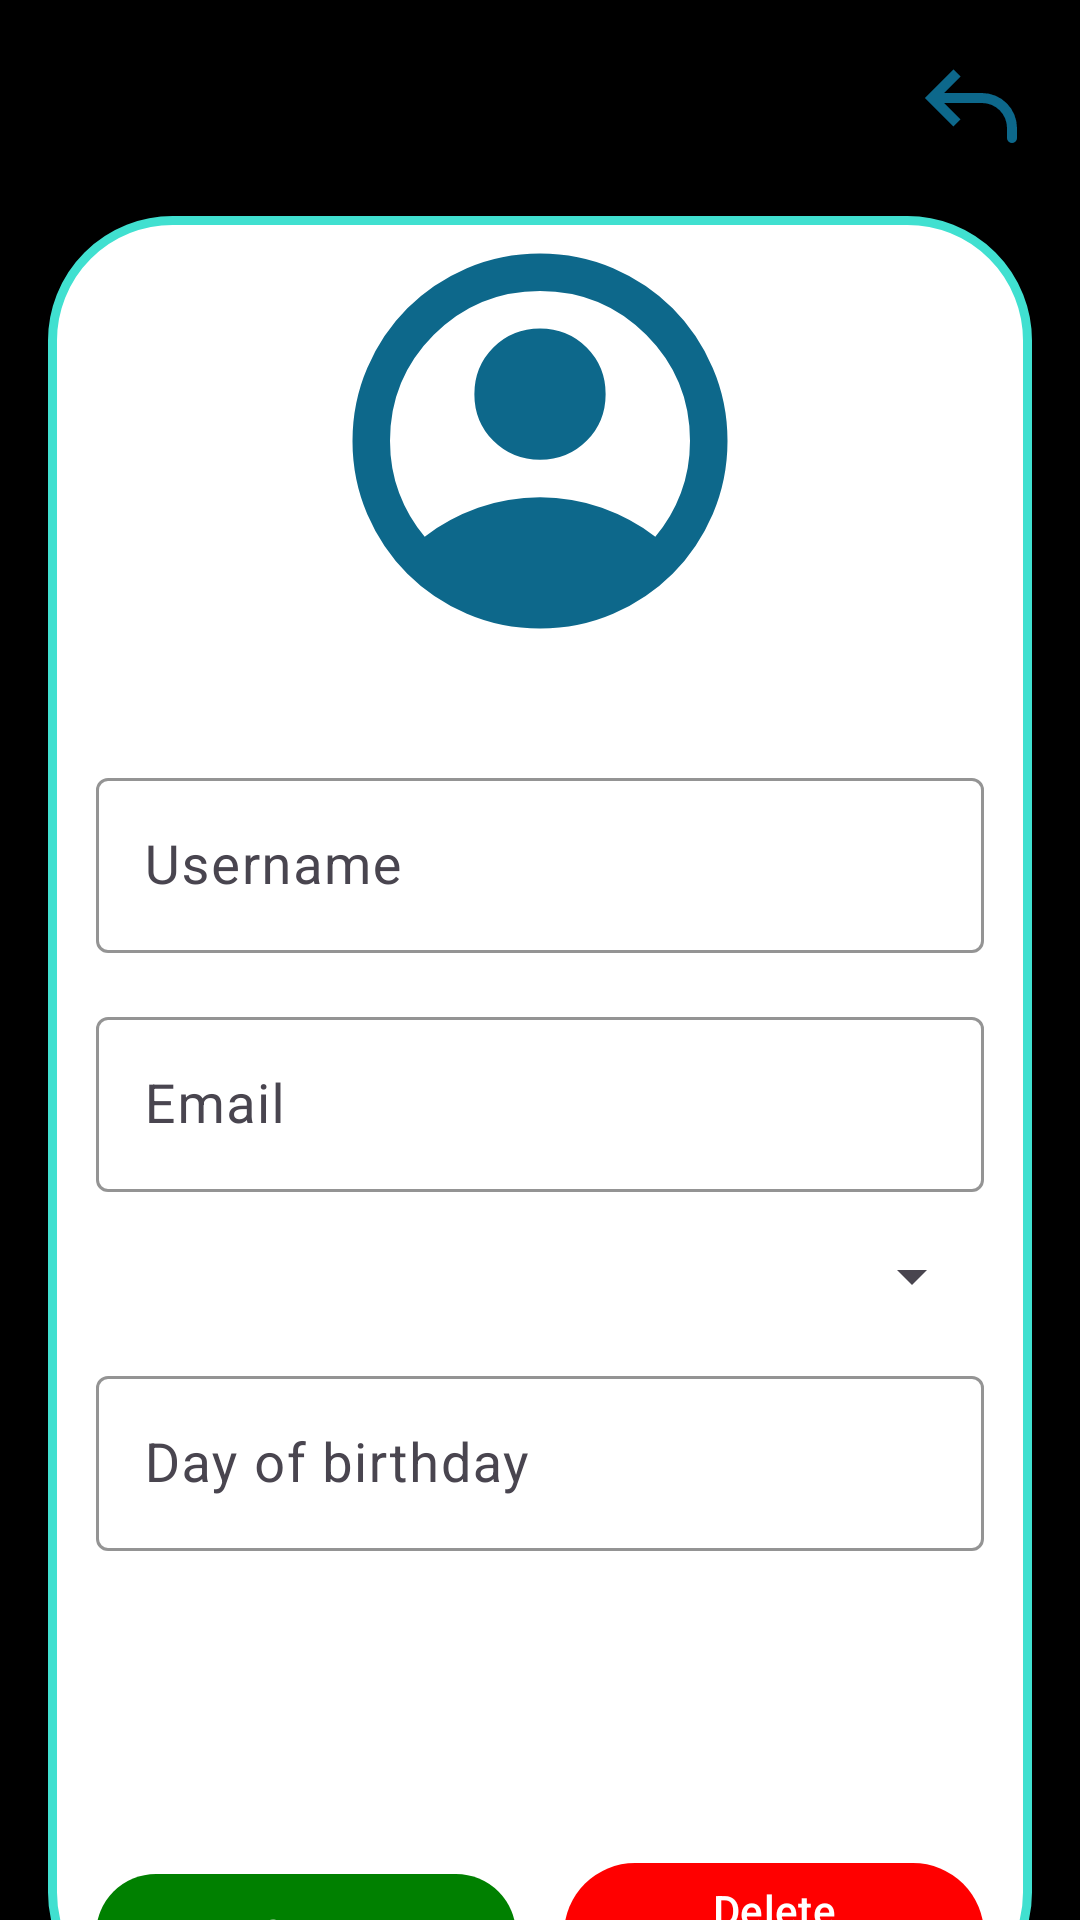

Screen size 1080*1920. Icon name, then its center in pixels as point (x, y):
back: point (971, 106)
